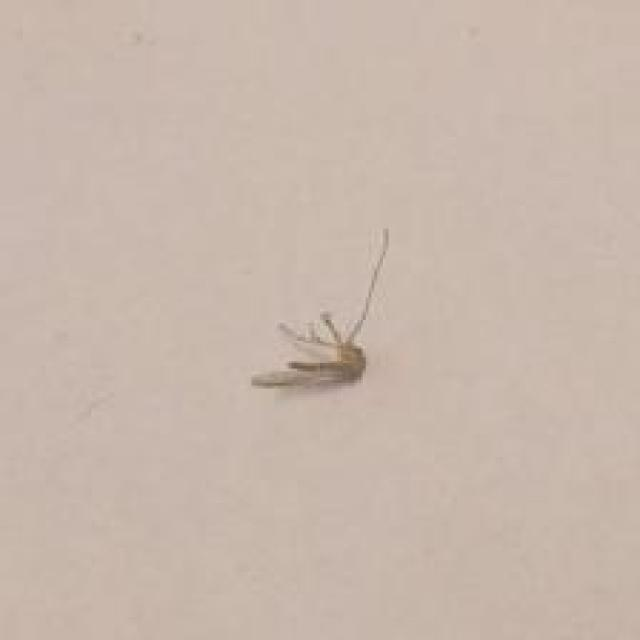Culex: (250, 225, 390, 388)
